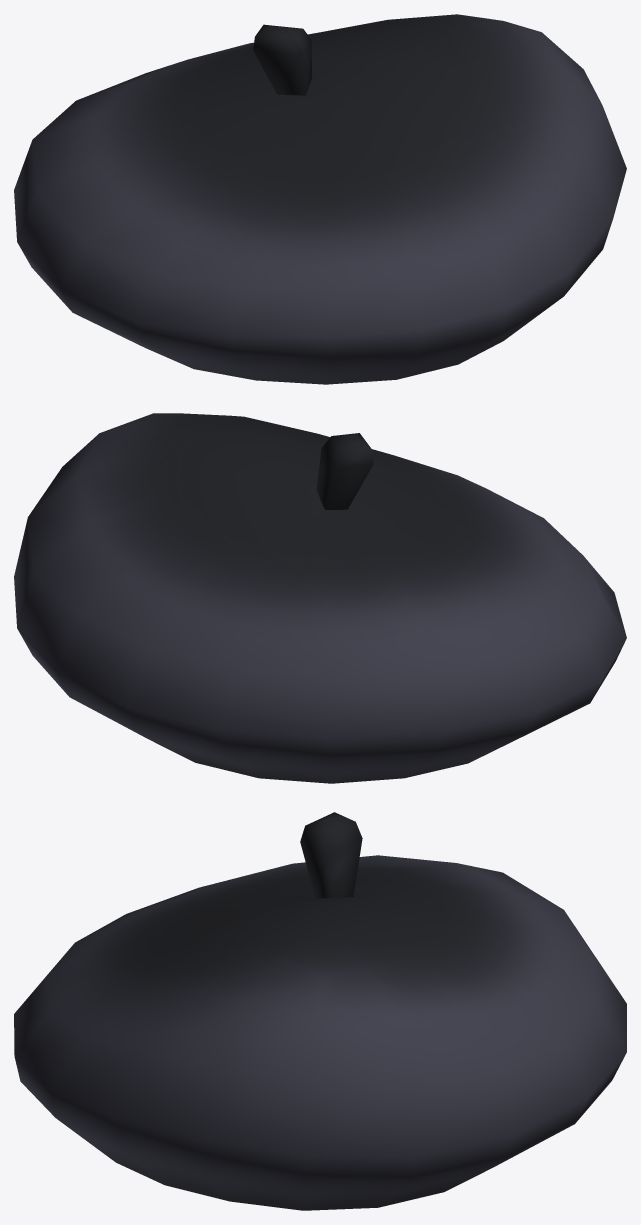
The model's file is French.glb.
3 renders of one model, top to bottom at view 1: azimuth 30°, elevation 25°; view 2: azimuth 150°, elevation 25°; view 3: azimuth 270°, elevation 25°, orthographic. The views are drawn at different scales.
Visible parts, largest first — view 1: m_FrenchHat01; view 2: m_FrenchHat01; view 3: m_FrenchHat01.
Part boxes in pixels (<box>): m_FrenchHat01: <box>14,14,626,384</box>; m_FrenchHat01: <box>14,413,626,783</box>; m_FrenchHat01: <box>14,812,626,1210</box>.
Size of the model in its own units: 0.8313 by 0.4135 by 0.7737.
Materials: 1 (1 with a texture image).
